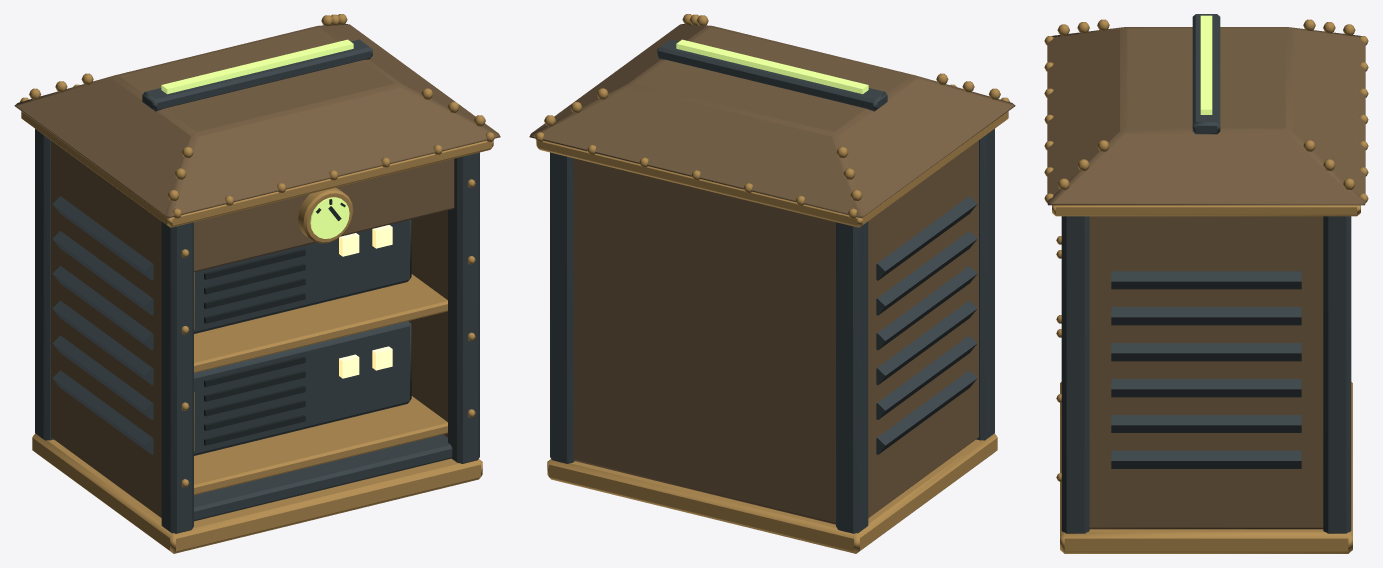
The model's file is rack.glb.
The picture shows the model from 3 angles, left to right: view 1: azimuth 30°, elevation 25°; view 2: azimuth 150°, elevation 25°; view 3: azimuth 270°, elevation 25°; orthographic projection. The views are drawn at different scales.
Parts seen in each view (by area): view 1: body_metal_brass, body_metal_graphite, body_metal_brass_bright, body_metal_dark, body_role_luminous; view 2: body_metal_brass, body_metal_graphite, body_metal_brass_bright, body_role_luminous; view 3: body_metal_brass, body_metal_graphite, body_metal_brass_bright, body_role_luminous.
Part boxes in pixels (x1=…): body_metal_brass: x1=14, y1=24, x2=500, y2=517; body_metal_graphite: x1=35, y1=39, x2=479, y2=533; body_metal_brass_bright: x1=20, y1=14, x2=494, y2=553; body_metal_dark: x1=204, y1=199, x2=345, y2=445; body_role_luminous: x1=161, y1=39, x2=353, y2=238; body_metal_brass: x1=529, y1=24, x2=1015, y2=524; body_metal_graphite: x1=550, y1=39, x2=994, y2=533; body_metal_brass_bright: x1=535, y1=14, x2=1009, y2=553; body_role_luminous: x1=676, y1=39, x2=868, y2=94; body_metal_brass: x1=1047, y1=27, x2=1365, y2=529; body_metal_graphite: x1=1061, y1=14, x2=1351, y2=533; body_metal_brass_bright: x1=1044, y1=19, x2=1368, y2=553; body_role_luminous: x1=1200, y1=15, x2=1212, y2=114.
Bounding box in the file's own units: 1 × 1.15 × 0.818.
